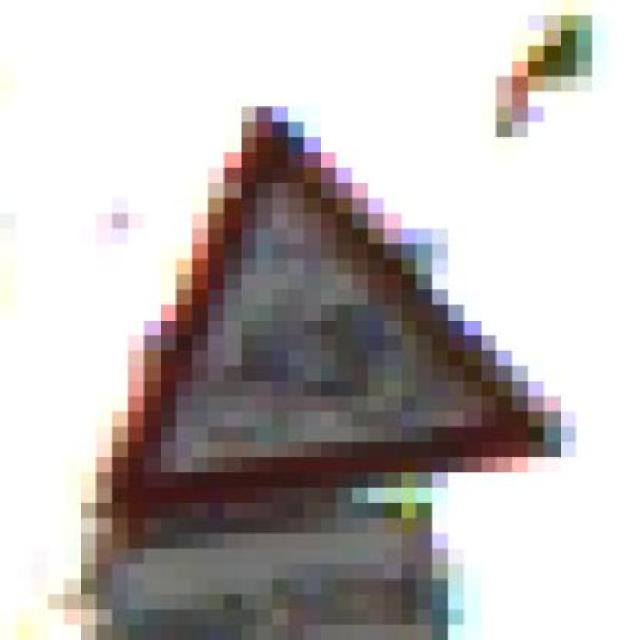CYCLE ROUTE AHEAD WARNING: (65, 76, 560, 518)
